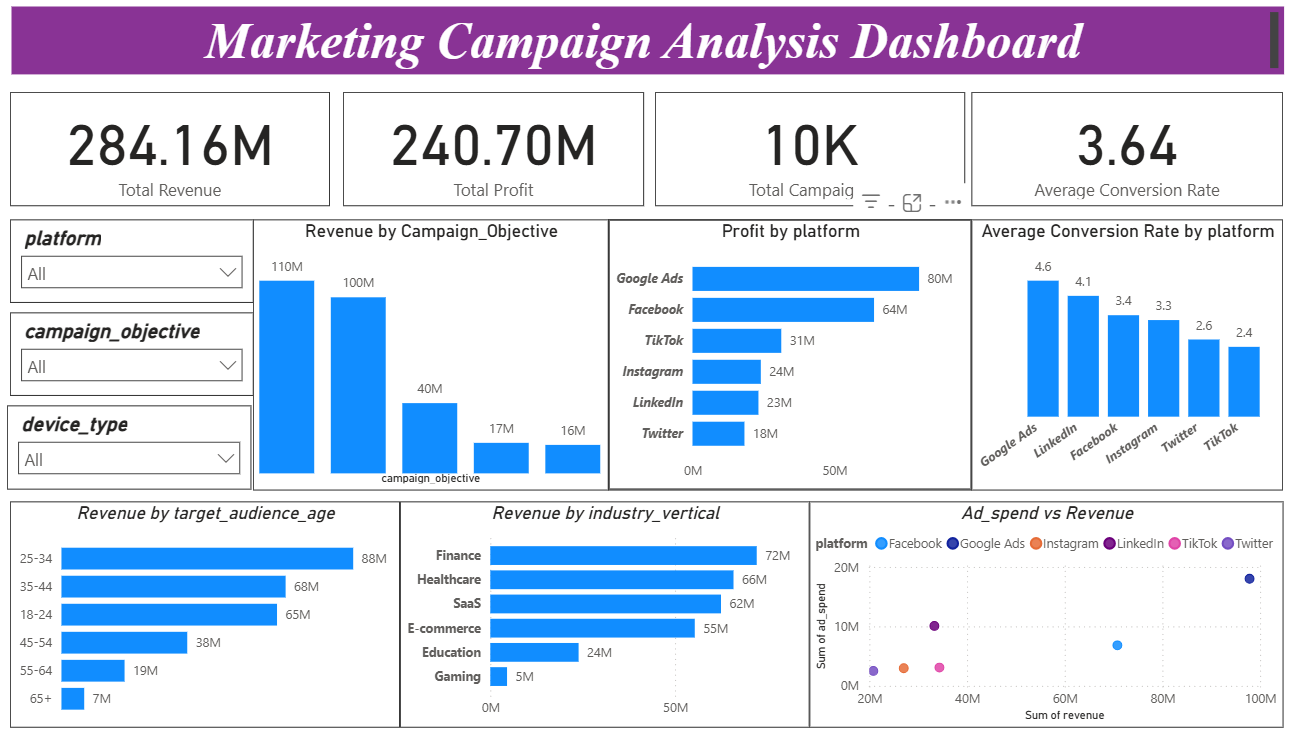

This screenshot's page, from the dashboard's own definition file:
{"tool":"powerbi","page":{"name":"Page 1","canvas":[1280,720],"ordinal":0},"visuals":[{"type":"card","fields":{"Values":["tech_advertising_campaigns_dataset.Total Revenue"]},"box":[48,94.7,304.6,108.4],"z":0},{"type":"card","fields":{"Values":["tech_advertising_campaigns_dataset.Total Profit"]},"box":[366.4,94.7,286.8,108.4],"z":1000},{"type":"card","fields":{"Values":["tech_advertising_campaigns_dataset.Total Campaigns"]},"box":[662.8,94.7,295,108.4],"z":2000},{"type":"card","fields":{"Values":["tech_advertising_campaigns_dataset.Average Conversion Rate"]},"box":[964.7,94.7,296.4,108.4],"z":3000},{"type":"slicer","fields":{"Values":["tech_advertising_campaigns_dataset.platform"]},"box":[48,215.4,231.9,79.6],"z":4000},{"type":"slicer","fields":{"Values":["tech_advertising_campaigns_dataset.campaign_objective"]},"box":[48,304.6,231.9,79.6],"z":5000},{"type":"slicer","fields":{"Values":["tech_advertising_campaigns_dataset.device_type"]},"box":[46.4,393.5,232.9,80.3],"z":6000},{"type":"clusteredColumnChart","title":" Revenue by Campaign_Objective","fields":{"Category":["tech_advertising_campaigns_dataset.campaign_objective"],"Y":["tech_advertising_campaigns_dataset.Total Revenue"]},"box":[280,215.6,338.9,257.8],"z":7000},{"type":"clusteredBarChart","title":" Profit by platform","fields":{"Y":["tech_advertising_campaigns_dataset.Total Profit"],"Category":["tech_advertising_campaigns_dataset.platform"]},"box":[618.9,215.4,345.8,258],"z":8000},{"type":"clusteredColumnChart","fields":{"Category":["tech_advertising_campaigns_dataset.platform"],"Y":["tech_advertising_campaigns_dataset.Average Conversion Rate"]},"box":[964.4,215.6,296.7,257.8],"z":9000},{"type":"clusteredBarChart","title":" Revenue by target_audience_age","fields":{"Y":["tech_advertising_campaigns_dataset.Total Revenue"],"Category":["tech_advertising_campaigns_dataset.target_audience_age"]},"box":[48.9,484.4,371.1,215.6],"z":10000},{"type":"clusteredBarChart","title":"Revenue by industry_vertical","fields":{"Category":["tech_advertising_campaigns_dataset.industry_vertical"],"Y":["tech_advertising_campaigns_dataset.Total Revenue"]},"box":[419.9,484.4,389.7,215.4],"z":11000},{"type":"scatterChart","title":" Ad_spend vs Revenue ","fields":{"Series":["tech_advertising_campaigns_dataset.platform"],"X":["Sum(tech_advertising_campaigns_dataset.revenue)"],"Y":["Sum(tech_advertising_campaigns_dataset.ad_spend)"]},"box":[810,484.4,451.1,215.6],"z":12000},{"type":"textbox","box":[49.4,12.3,1211.7,64.5],"z":13000}]}

Visuals, with their boxes in screenshot pixels (x1, y1, x2, y2), scaled from the page's 1280x720 canvas onto the 1294x741 screenshot:
card - tech_advertising_campaigns_dataset.Total Revenue: Rect(49, 97, 356, 209)
card - tech_advertising_campaigns_dataset.Total Profit: Rect(370, 97, 660, 209)
card - tech_advertising_campaigns_dataset.Total Campaigns: Rect(670, 97, 968, 209)
card - tech_advertising_campaigns_dataset.Average Conversion Rate: Rect(975, 97, 1275, 209)
slicer - tech_advertising_campaigns_dataset.platform: Rect(49, 222, 283, 304)
slicer - tech_advertising_campaigns_dataset.campaign_objective: Rect(49, 313, 283, 395)
slicer - tech_advertising_campaigns_dataset.device_type: Rect(47, 405, 282, 488)
" Revenue by Campaign_Objective" clusteredColumnChart: Rect(283, 222, 626, 487)
" Profit by platform" clusteredBarChart: Rect(626, 222, 975, 487)
clusteredColumnChart - tech_advertising_campaigns_dataset.platform x tech_advertising_campaigns_dataset.Average Conversion Rate: Rect(975, 222, 1275, 487)
" Revenue by target_audience_age" clusteredBarChart: Rect(49, 499, 425, 720)
"Revenue by industry_vertical" clusteredBarChart: Rect(424, 499, 818, 720)
" Ad_spend vs Revenue " scatterChart: Rect(819, 499, 1275, 720)
textbox: Rect(50, 13, 1275, 79)
